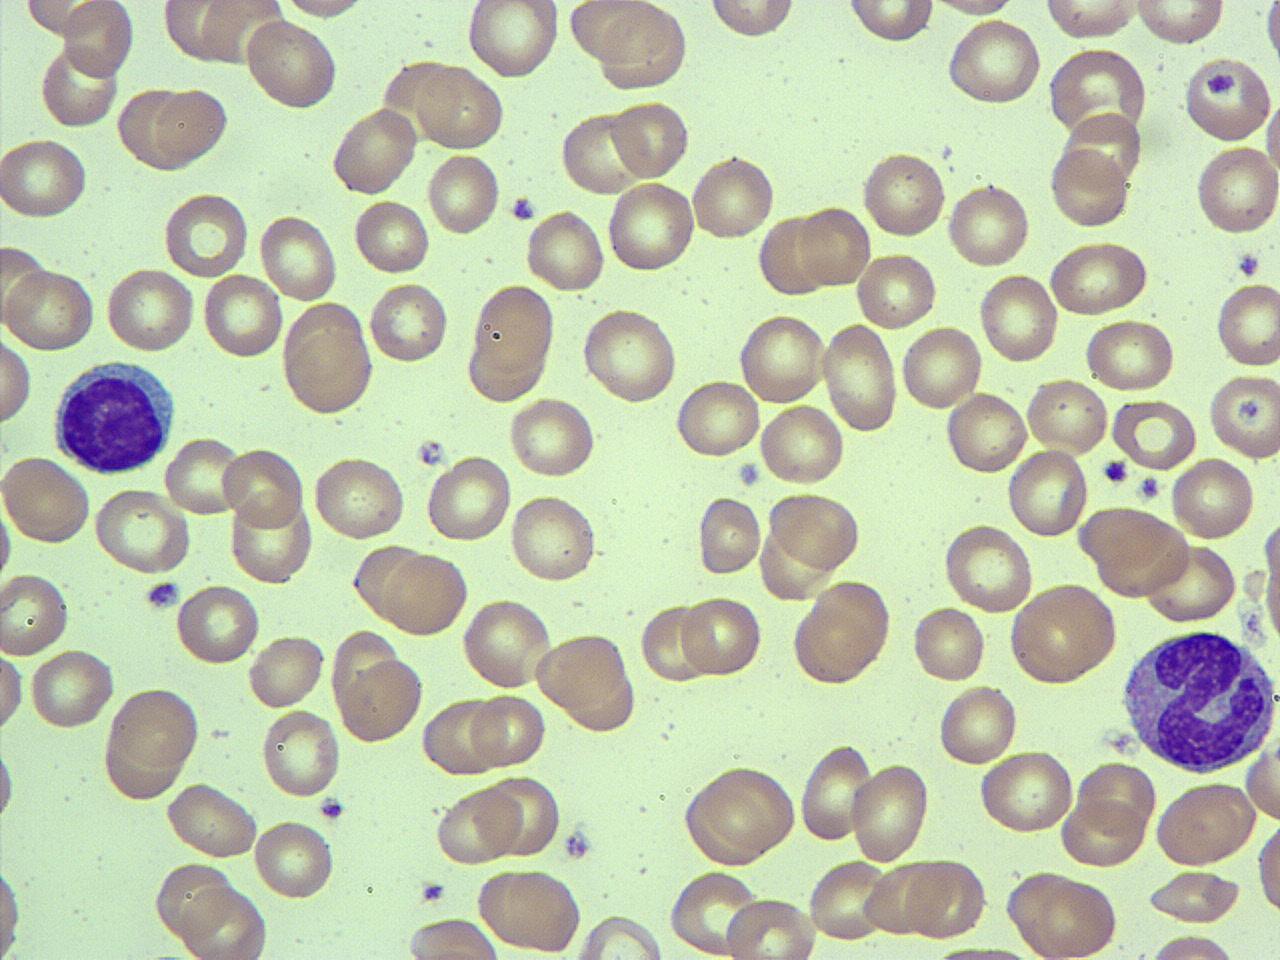Platelets: (143, 578, 183, 612), (315, 794, 347, 821), (736, 458, 762, 490), (508, 194, 536, 223), (1236, 250, 1264, 278), (1101, 458, 1129, 484), (1137, 472, 1161, 501), (418, 880, 447, 902)
RBC: (679, 762, 802, 868), (1008, 580, 1120, 688), (789, 576, 894, 690), (279, 301, 375, 418), (1003, 868, 1121, 960), (578, 306, 682, 407), (577, 3, 692, 91), (474, 864, 586, 955), (1046, 45, 1150, 140), (460, 594, 556, 694), (242, 15, 340, 113), (819, 320, 902, 435), (1152, 781, 1258, 870), (105, 684, 204, 778), (91, 486, 193, 576), (848, 760, 932, 868), (942, 520, 1037, 616), (735, 312, 828, 408), (606, 179, 698, 277), (944, 16, 1043, 108), (0, 452, 93, 549), (470, 280, 558, 380), (977, 748, 1077, 836), (534, 630, 634, 718), (424, 451, 514, 548), (311, 452, 408, 542), (329, 104, 420, 198), (103, 264, 197, 356), (666, 868, 762, 958), (508, 489, 598, 585), (1181, 55, 1275, 146), (2, 264, 97, 354), (1046, 236, 1150, 318), (860, 147, 948, 242), (338, 650, 425, 746), (976, 270, 1061, 368), (161, 188, 251, 280), (688, 151, 778, 244), (944, 179, 1033, 272), (381, 548, 470, 640), (766, 489, 864, 573), (466, 0, 564, 82), (163, 779, 262, 861), (758, 400, 848, 490), (506, 392, 597, 481), (415, 63, 506, 151), (1194, 143, 1278, 239), (798, 740, 874, 846), (221, 443, 307, 534), (1143, 542, 1239, 624), (942, 389, 1031, 478), (1168, 455, 1258, 543), (0, 134, 91, 221), (898, 323, 984, 414), (256, 212, 341, 305), (1007, 448, 1091, 541), (366, 277, 451, 368), (259, 706, 341, 800), (852, 248, 940, 334), (200, 272, 284, 362), (433, 785, 524, 868), (28, 646, 116, 732), (678, 592, 764, 680), (936, 680, 1019, 770), (1081, 318, 1179, 394), (38, 40, 120, 132), (806, 856, 889, 946), (176, 581, 262, 667), (904, 855, 989, 942), (559, 109, 643, 197), (672, 377, 760, 461), (525, 207, 606, 294), (608, 97, 690, 182), (162, 434, 244, 519), (112, 82, 191, 169), (1109, 395, 1199, 472), (252, 818, 335, 902), (1047, 145, 1129, 230), (1074, 757, 1160, 838), (796, 201, 872, 291), (1024, 375, 1108, 457), (180, 884, 270, 960), (425, 150, 501, 240), (153, 861, 236, 942), (1207, 369, 1279, 462), (910, 601, 988, 686), (486, 772, 562, 858), (1074, 502, 1180, 564), (721, 895, 821, 960), (152, 84, 231, 166), (0, 568, 72, 658), (352, 197, 432, 276), (468, 690, 547, 770), (421, 695, 499, 777), (757, 213, 828, 301), (246, 633, 327, 711), (62, 0, 137, 84), (1057, 798, 1147, 867), (562, 0, 660, 64), (1214, 278, 1280, 370), (639, 600, 709, 686), (694, 492, 764, 578), (1146, 865, 1244, 926), (398, 915, 506, 959), (1133, 0, 1229, 49), (573, 912, 667, 960), (20, 0, 124, 42), (1043, 0, 1143, 43), (844, 0, 936, 46), (706, 0, 800, 41), (0, 330, 34, 430), (1241, 740, 1279, 828), (1139, 930, 1249, 960), (1253, 814, 1279, 923), (0, 860, 25, 960), (0, 647, 25, 741), (1261, 0, 1280, 76)
WBC: (1115, 620, 1279, 778), (49, 357, 182, 478)
